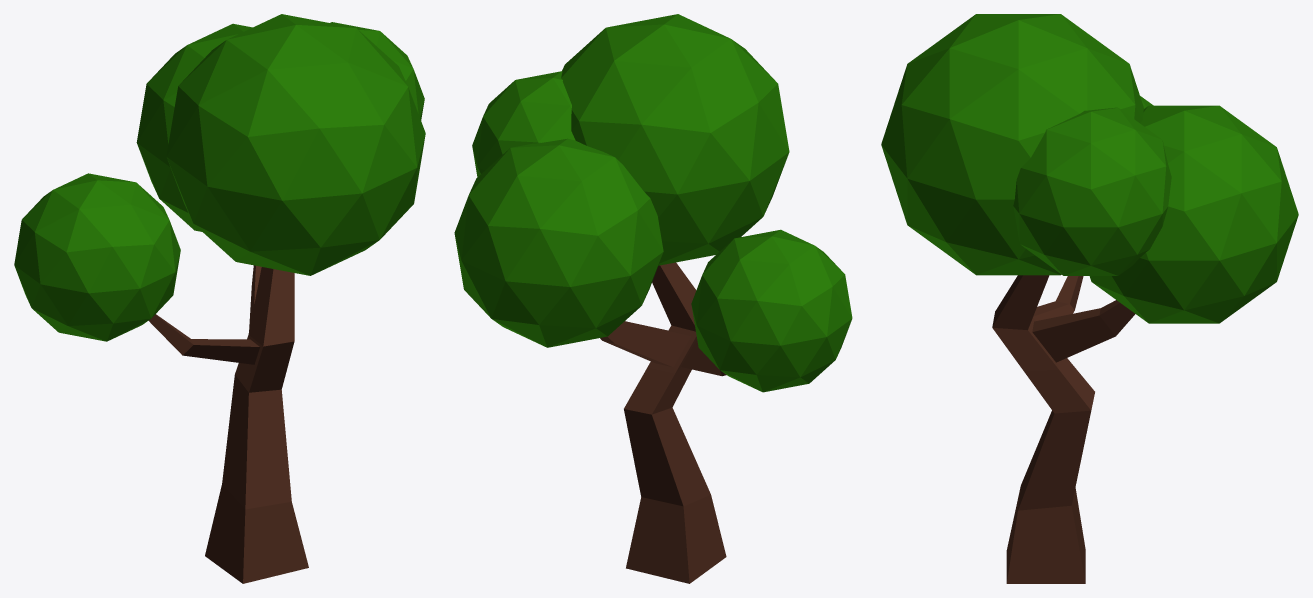
Rendered from arbol1.glb.
3 views of the same model, side by side, from view 1: azimuth 30°, elevation 25°; view 2: azimuth 150°, elevation 25°; view 3: azimuth 270°, elevation 25° (orthographic). The views are drawn at different scales.
Visible parts, largest first — view 1: Cube; view 2: Cube; view 3: Cube.
Boxes of the visible parts, left/top/right/bottom form: Cube: left=14, top=14, right=425, bottom=583; Cube: left=454, top=14, right=852, bottom=583; Cube: left=881, top=14, right=1298, bottom=583.
Size of the model in its own units: 3.64 by 5 by 3.38.
